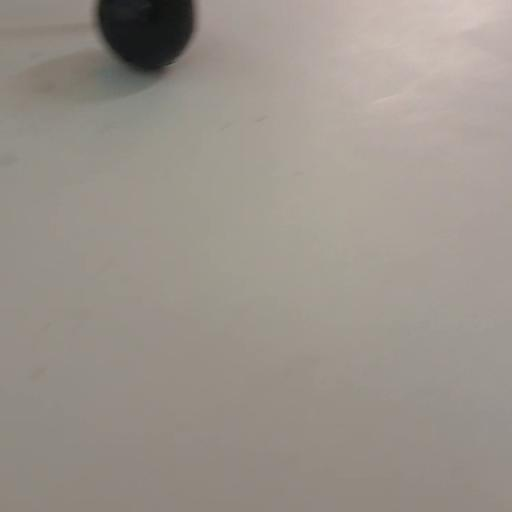dead: (93, 0, 198, 70)
